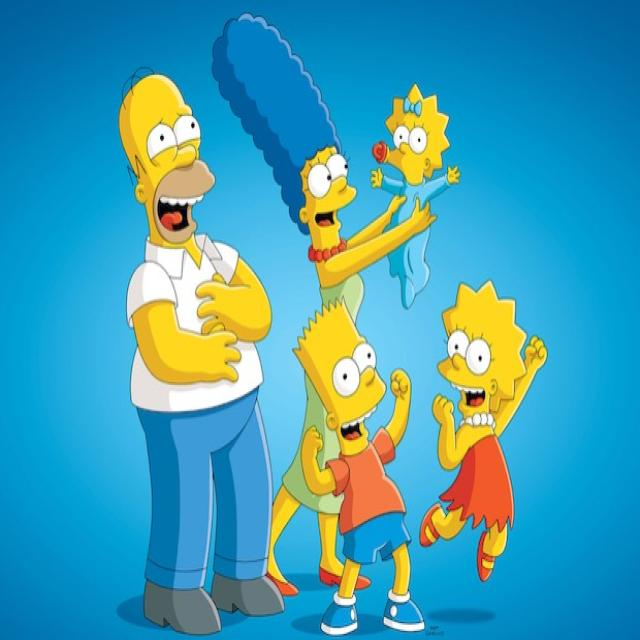Bart Simpson: (291, 296, 388, 459)
Homer Simpson: (116, 69, 218, 252)
Lisa Simpson: (436, 280, 528, 429)
Maggie Simpson: (371, 81, 453, 188)
Marge Simpson: (213, 15, 357, 264)
